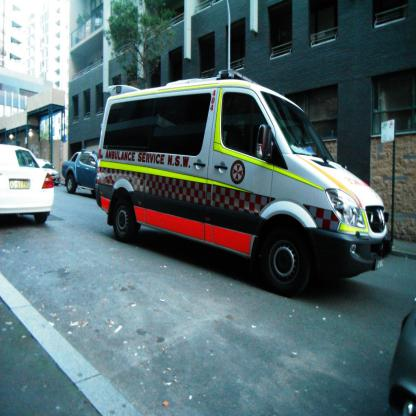Ambulance: (95, 66, 391, 294)
